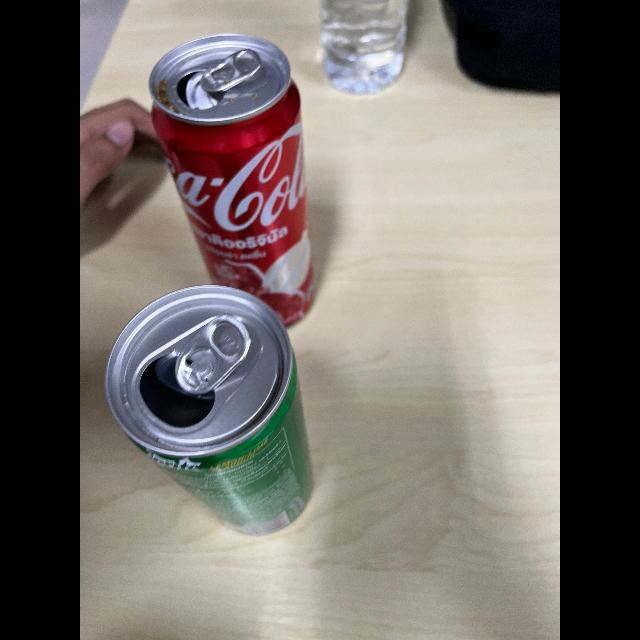can: (145, 24, 327, 322), (103, 292, 323, 536)
